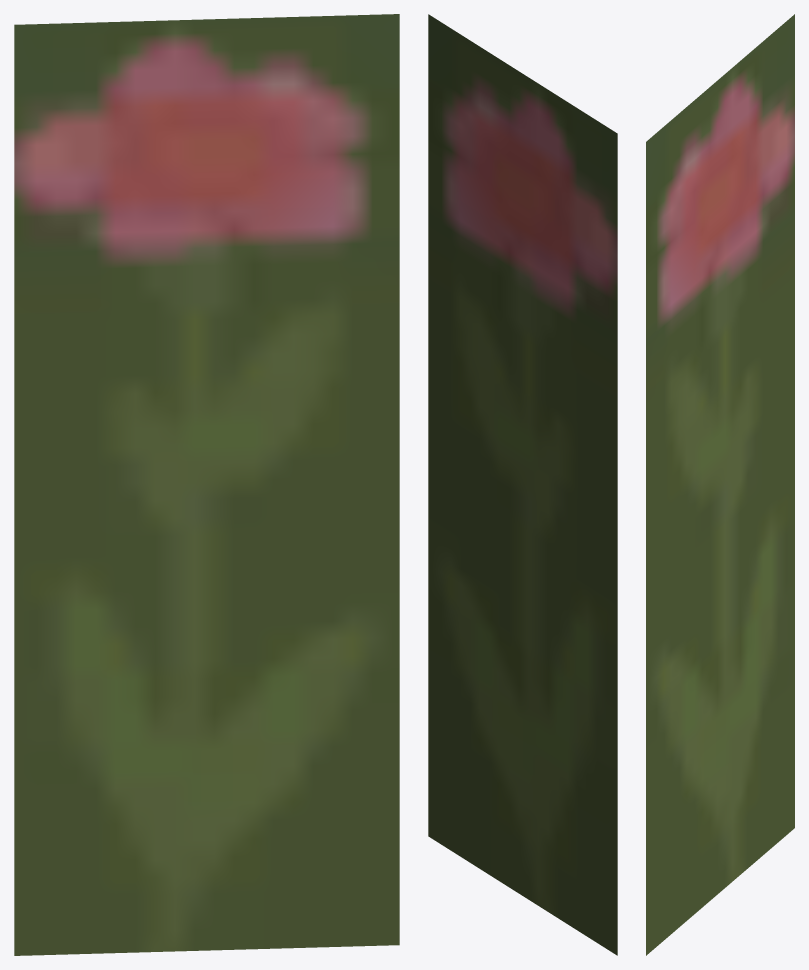
The model's file is pref_sm_garden_smallflower01_lv2.fbx.
3 views of the same model, side by side, from view 1: azimuth 30°, elevation 25°; view 2: azimuth 150°, elevation 25°; view 3: azimuth 270°, elevation 25° (orthographic). The views are drawn at different scales.
Visible parts, largest first — view 1: pref_sm_garden_smallflower01_lv2; view 2: pref_sm_garden_smallflower01_lv2; view 3: pref_sm_garden_smallflower01_lv2.
Part boxes in pixels (x1,y1,x2,y2): pref_sm_garden_smallflower01_lv2: (14, 14, 399, 955); pref_sm_garden_smallflower01_lv2: (428, 14, 617, 955); pref_sm_garden_smallflower01_lv2: (646, 14, 794, 955).
Bounding box in the file's own units: 0.2161 × 0.6413 × 0.1063.
